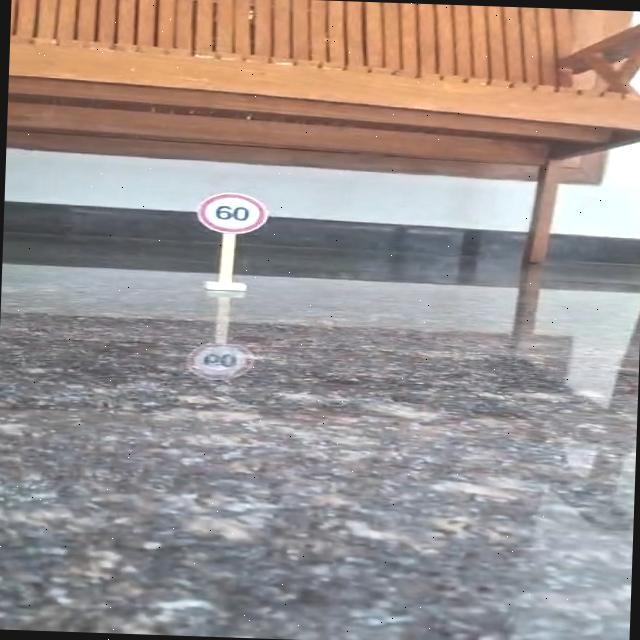Speed60: (193, 190, 270, 237)
